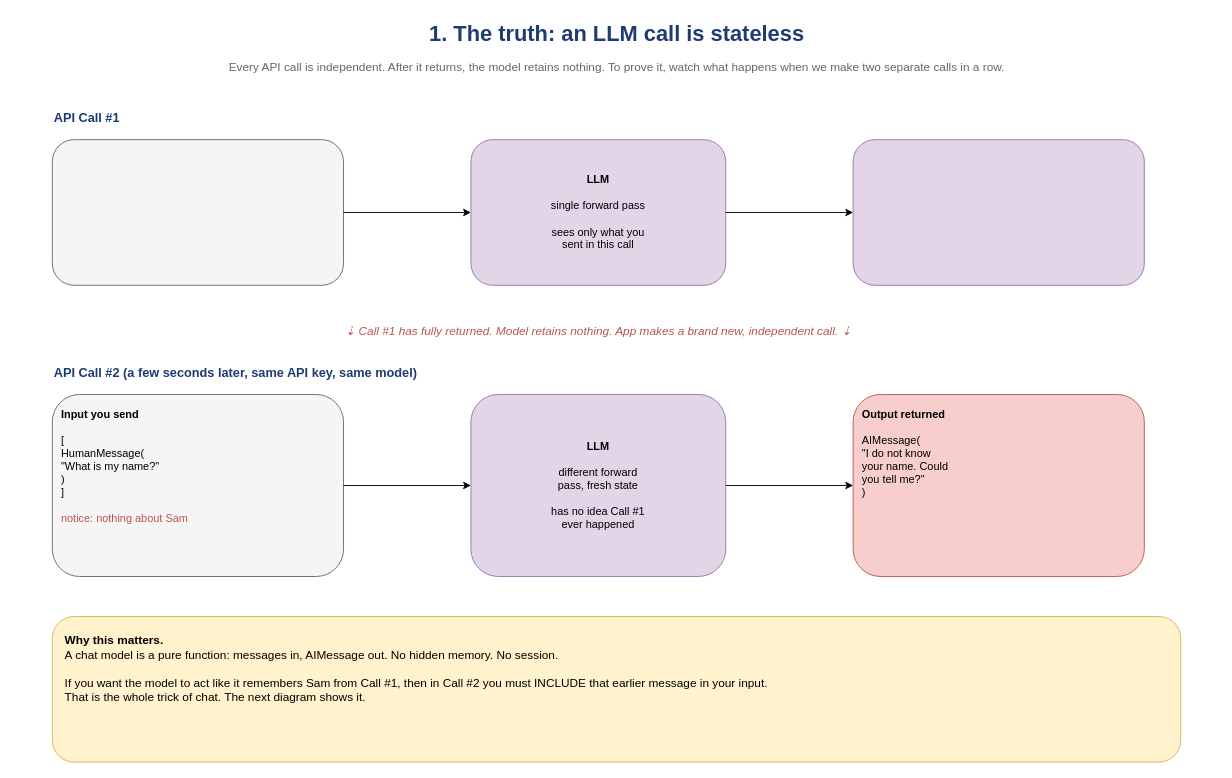
The diagram is 1232 pixels wide and 778 high, and some of its shapes have lost their labels. The centre of each missing label's shape, as x and y in pixels:
Input you send [ HumanMessage( "My name is Sam." ) ]: (x=197, y=212)
Output returned AIMessage( "Nice to meet you, Sam!" ): (x=998, y=212)
